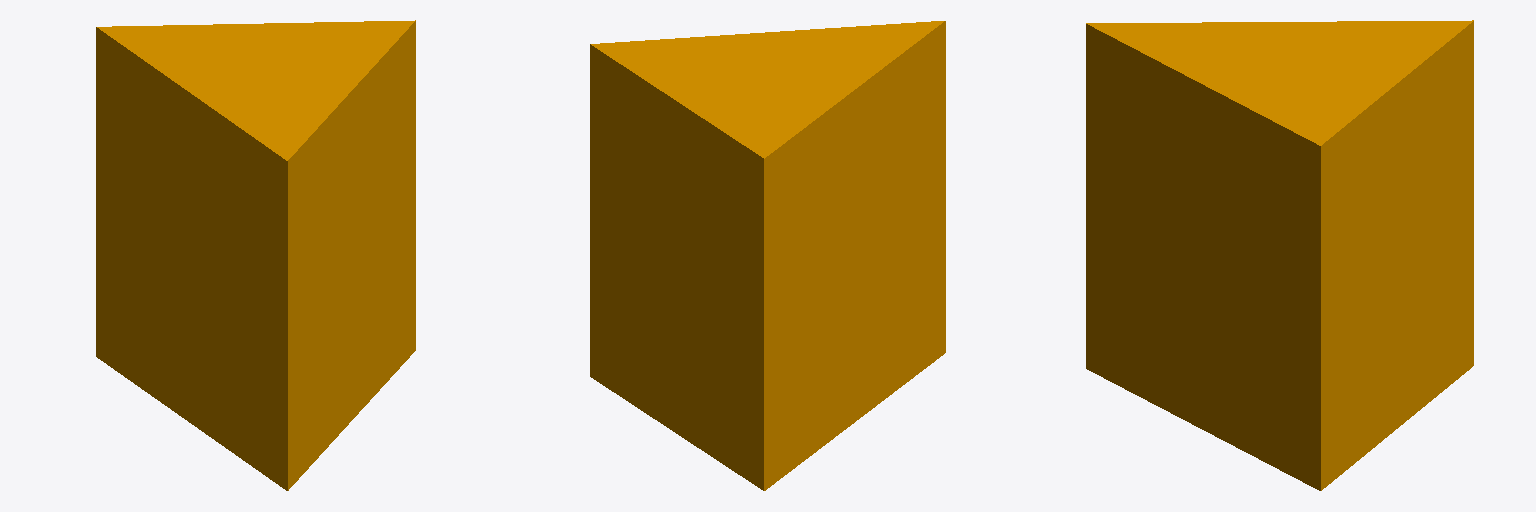
URDF robot description (object):
<?xml version="1.0"?>
<robot name="object">
  <link name="object">
    <visual>
      <origin xyz="0 0 0"/>
      <geometry>
        <mesh filename="meshes/generated/col_063.obj" scale="0.03 0.03 0.03"/>
      </geometry>
    </visual>
    <collision>
      <origin xyz="0 0 0"/>
      <geometry>
        <mesh filename="meshes/generated/col_063.obj" scale="0.03 0.03 0.03"/>
      </geometry>
    </collision>
    <inertial>
      <density value="1000.0"/>
    </inertial>
  </link>
</robot>

--- Render facts (derived) ---
3 views of the same robot in one strip: view 1: azimuth 30°, elevation 25°; view 2: azimuth 150°, elevation 25°; view 3: azimuth 270°, elevation 25° (orthographic).
Robot: object — 1 links, 0 joints (none); root link object; default pose: all joints at 0.
Visible links, largest first — view 1: object; view 2: object; view 3: object.
Link boxes in pixels (bbox=[...]): object: bbox=[96, 20, 415, 490]; object: bbox=[590, 21, 945, 490]; object: bbox=[1086, 20, 1473, 490].
Size in the robot's own frame: 0.0468 by 0.0612 by 0.06 metres.
1 mesh visuals loaded from 1 distinct referenced files (1 OBJ).
